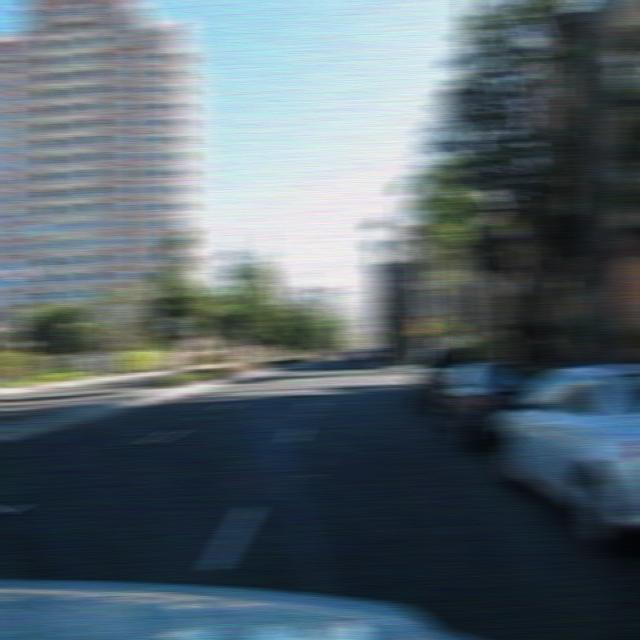speedLimit35: (163, 316, 185, 335)
